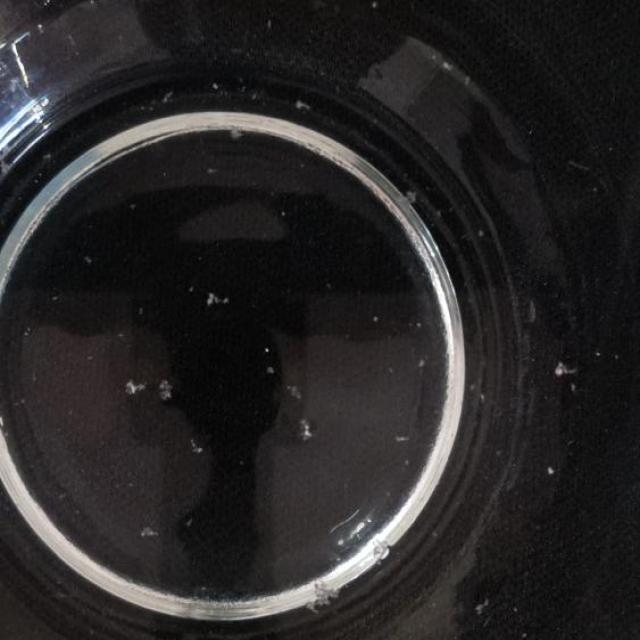fiber: (304, 578, 346, 616), (196, 284, 238, 314), (281, 374, 310, 410), (190, 430, 217, 464), (288, 90, 316, 120), (220, 118, 252, 144), (154, 376, 180, 406), (547, 357, 574, 385), (131, 522, 160, 547), (393, 423, 415, 452), (123, 376, 143, 402), (298, 416, 318, 441), (400, 185, 423, 206)
